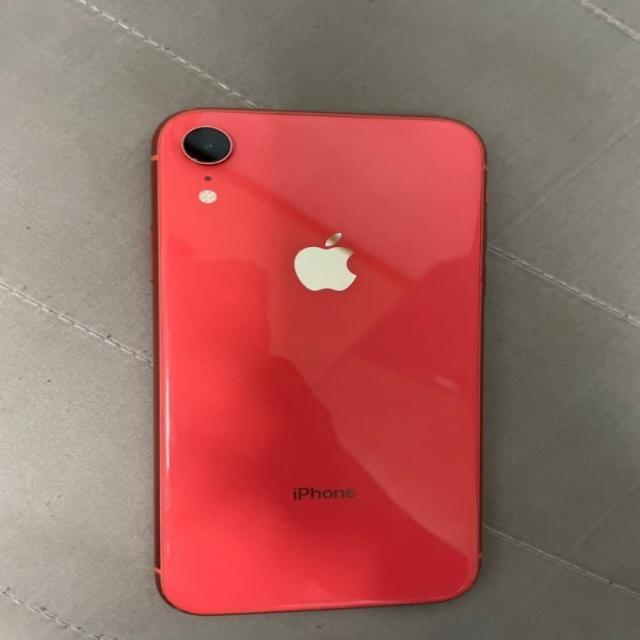phone: (146, 106, 492, 614)
